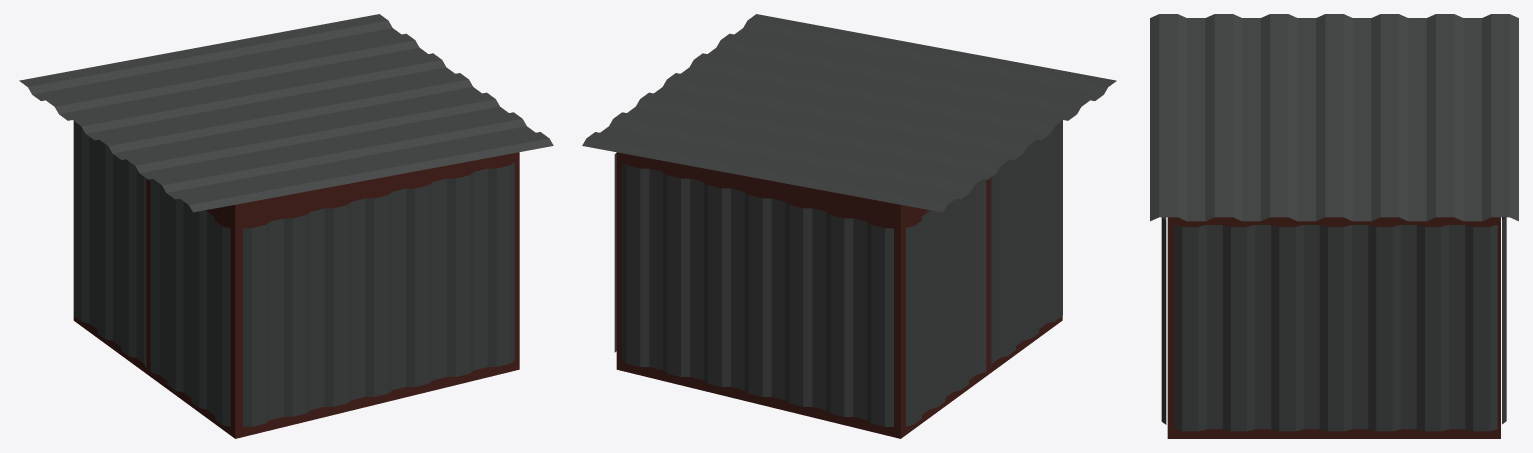
Rendered from Model_Blaszak.fbx.
3 renders of one model, left to right at view 1: azimuth 30°, elevation 25°; view 2: azimuth 150°, elevation 25°; view 3: azimuth 270°, elevation 25°, orthographic. The views are drawn at different scales.
Parts seen in each view (by area): view 1: Mesh_Blaszak; view 2: Mesh_Blaszak; view 3: Mesh_Blaszak.
Boxes of the visible parts, left/top/right/bottom form: Mesh_Blaszak: left=19, top=14, right=553, bottom=438; Mesh_Blaszak: left=582, top=14, right=1116, bottom=438; Mesh_Blaszak: left=1150, top=14, right=1518, bottom=438.
Bounding box in the file's own units: 301 × 231 × 350.
